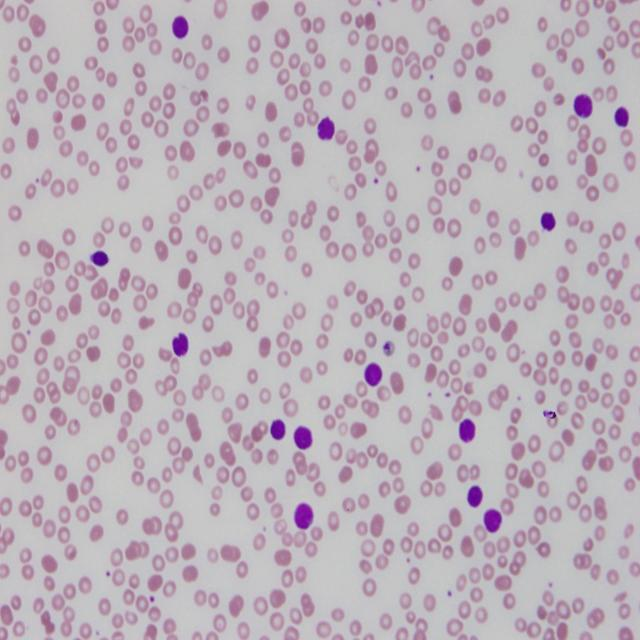cell: (294, 503, 314, 530), (574, 93, 592, 118), (484, 508, 502, 532), (364, 363, 382, 387), (294, 427, 312, 450), (172, 333, 189, 357), (172, 15, 189, 38), (318, 117, 335, 140), (459, 418, 475, 442), (270, 418, 285, 440), (90, 250, 109, 267), (468, 485, 482, 507), (541, 212, 556, 231), (615, 107, 629, 127)
